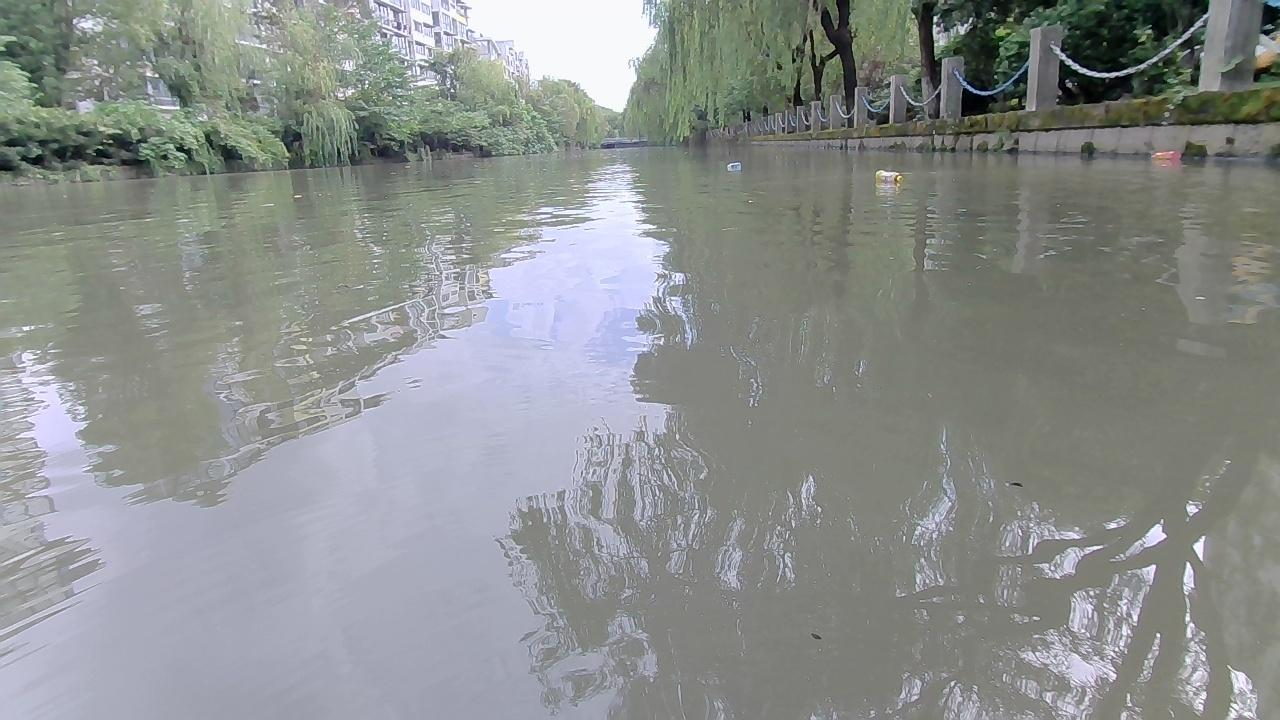bottle: (871, 164, 906, 183), (1150, 144, 1178, 163), (723, 162, 739, 169)
